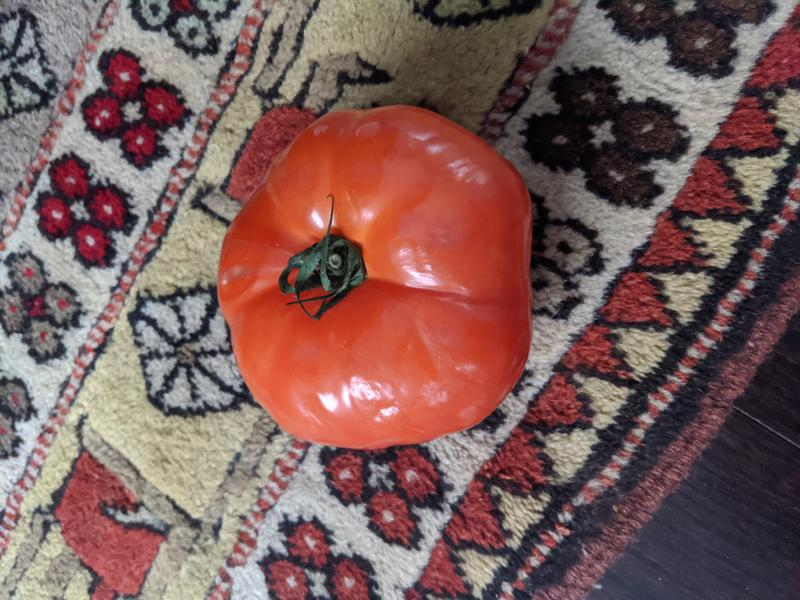tomato: (216, 105, 535, 451)
